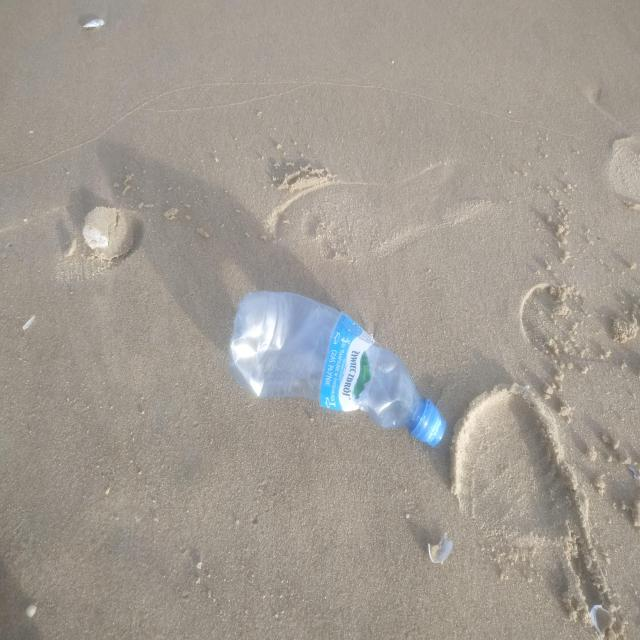litter: (232, 285, 444, 441)
